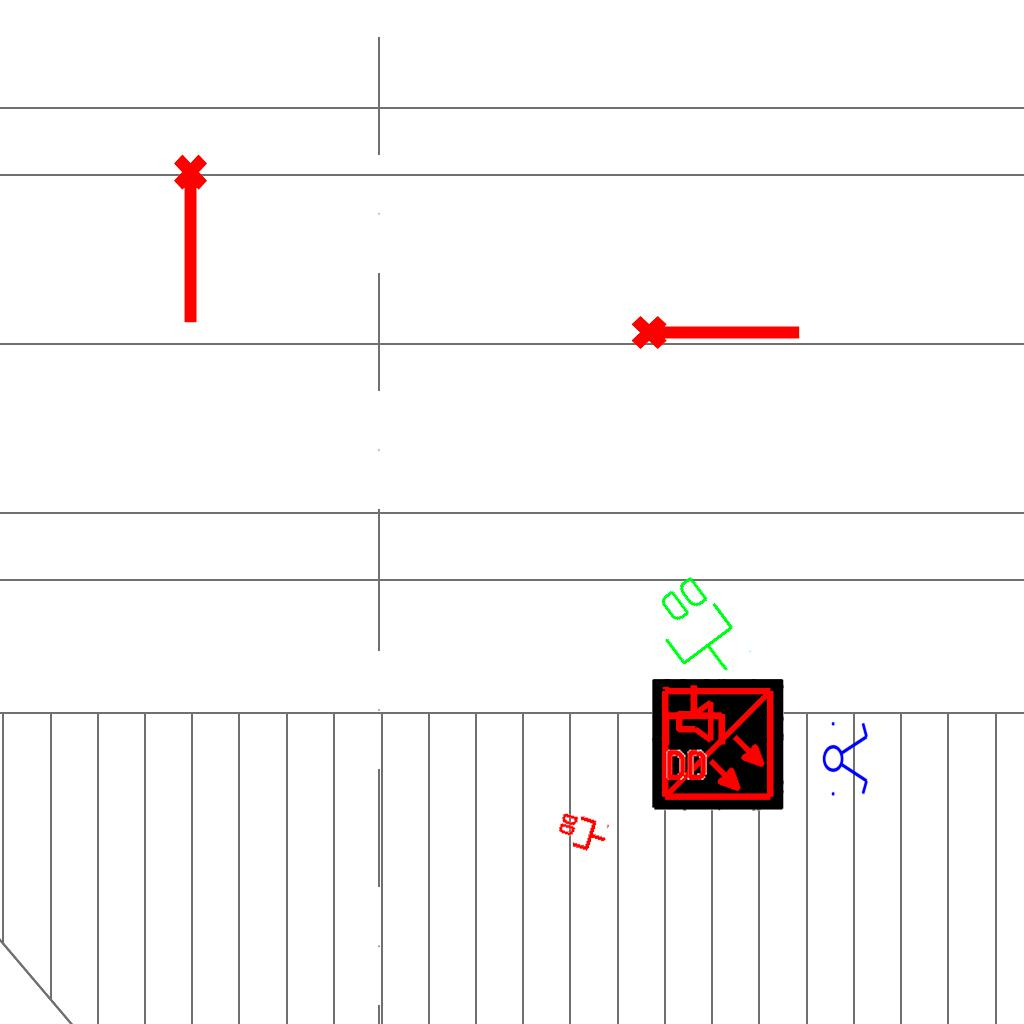ASR_Ansaugoeffnung: (170, 152, 216, 328), (629, 307, 805, 353)
Datenanschluss_zweifach: (638, 568, 757, 693), (661, 682, 730, 785), (552, 809, 612, 858)
OKW_Multisensormelder_(Kombination_optischer_Rauch-Kahlenmonoxid_Waerme-Melder): (652, 679, 784, 811)
Serienschalter: (822, 716, 870, 800)
